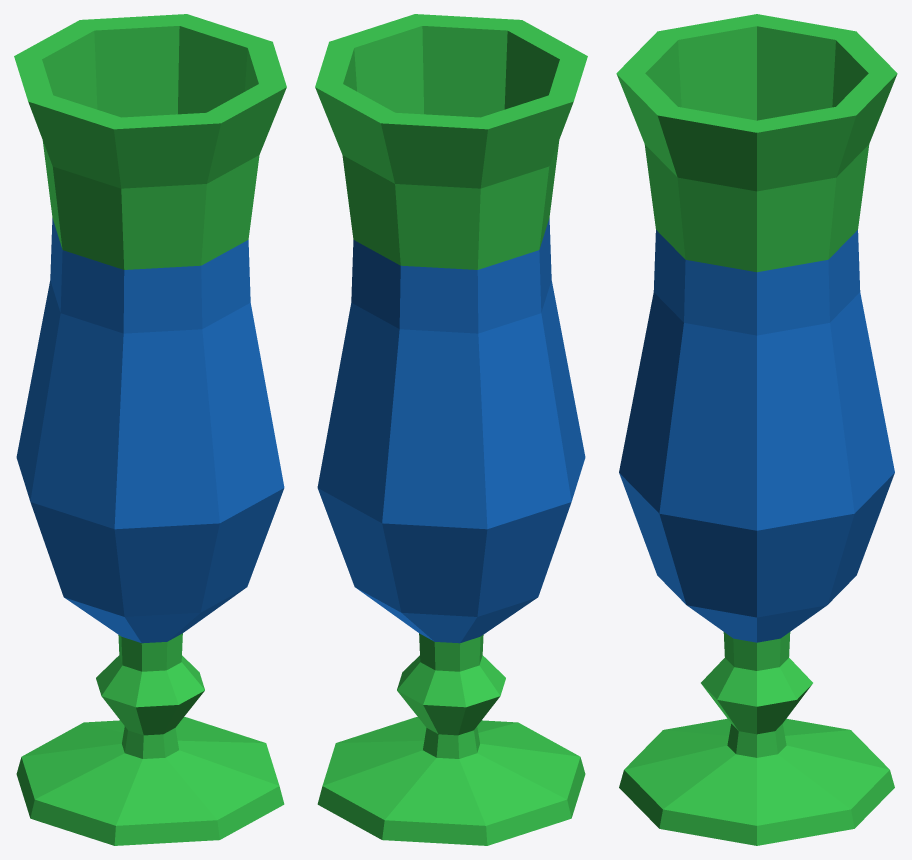
Rendered from SM_cocktail_glass.fbx.
The picture shows the model from 3 angles, left to right: view 1: azimuth 30°, elevation 25°; view 2: azimuth 150°, elevation 25°; view 3: azimuth 270°, elevation 25°; orthographic projection.
Visible parts, largest first — view 1: cocktail_glass_1; view 2: cocktail_glass_1; view 3: cocktail_glass_1.
Boxes of the visible parts, x1,y1,x2,y2 form: cocktail_glass_1: (14, 14, 286, 845); cocktail_glass_1: (315, 14, 587, 845); cocktail_glass_1: (616, 14, 897, 845).
Size of the model in its own units: 10.27 by 28.77 by 10.27.
